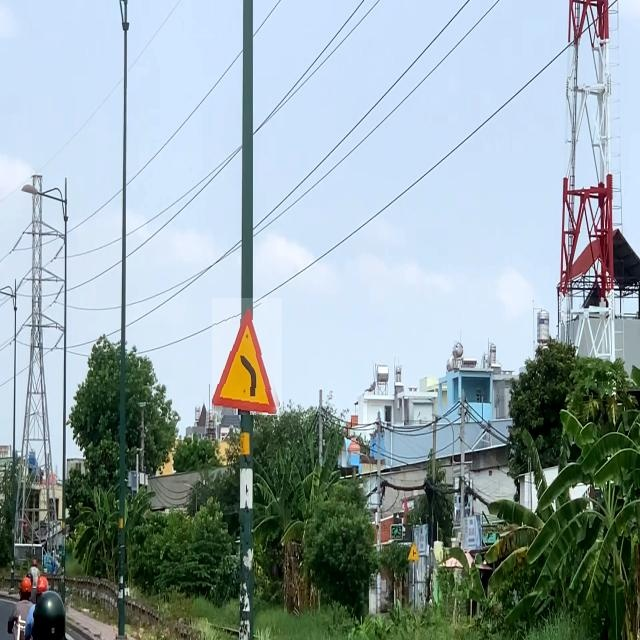bien_nguy_hiem: (212, 298, 282, 415)
